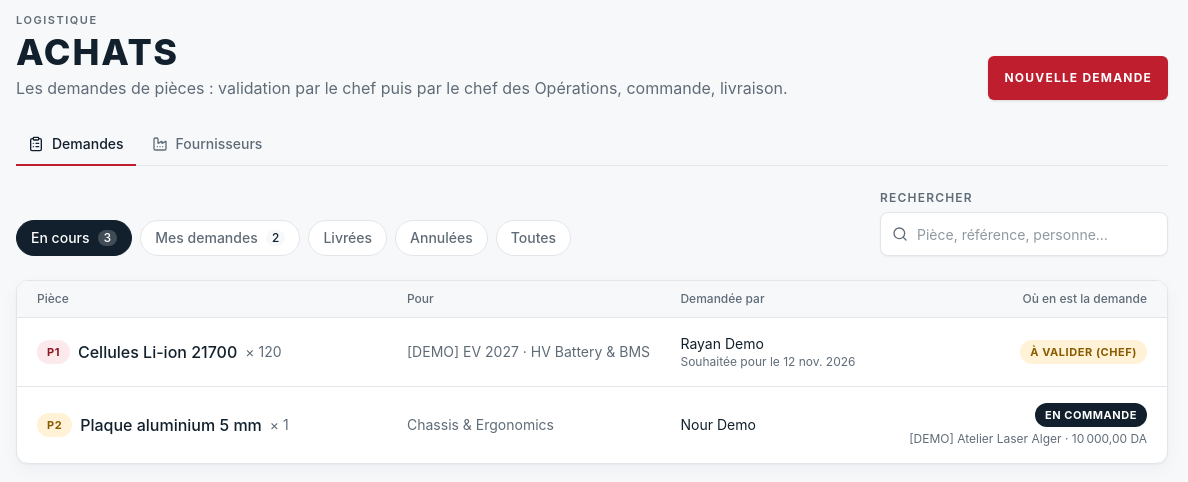
PurchasesPage › searches without accents, in the part and the people
Check: the link "Cellules Li-ion 21700" is shown, box [78,340,237,364]
Type "nour" into the search field labelled "Rechercher" at (1024, 234), box [880,212,1168,256]
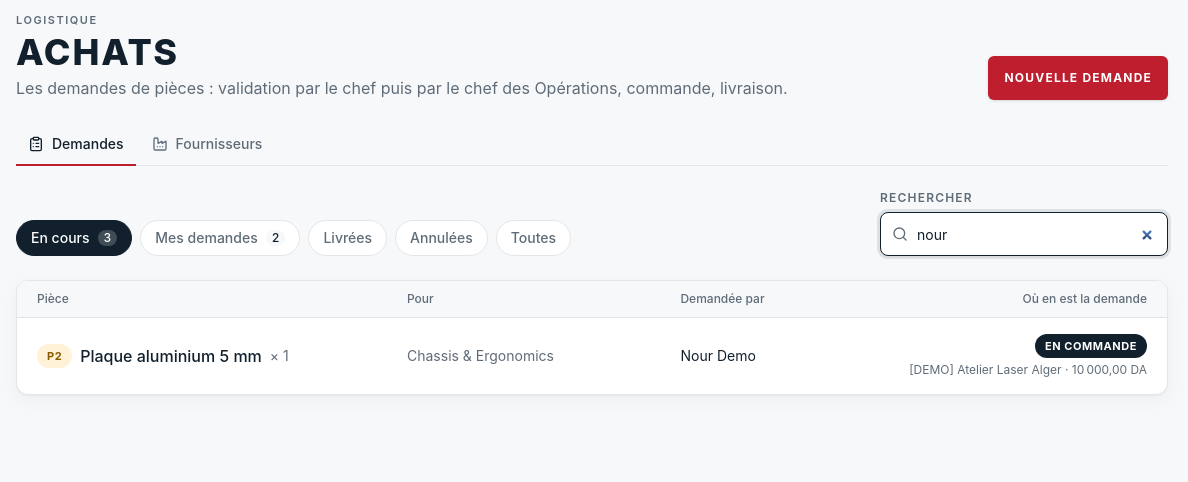
Check: the link "Plaque aluminium 5 mm" is shown, box [80,344,262,368]
Check: the link "Cellules Li-ion 21700" is gone
Replace the text in the search field labelled "Rechercher" with "zzz" at (1024, 234), box [880,212,1168,256]
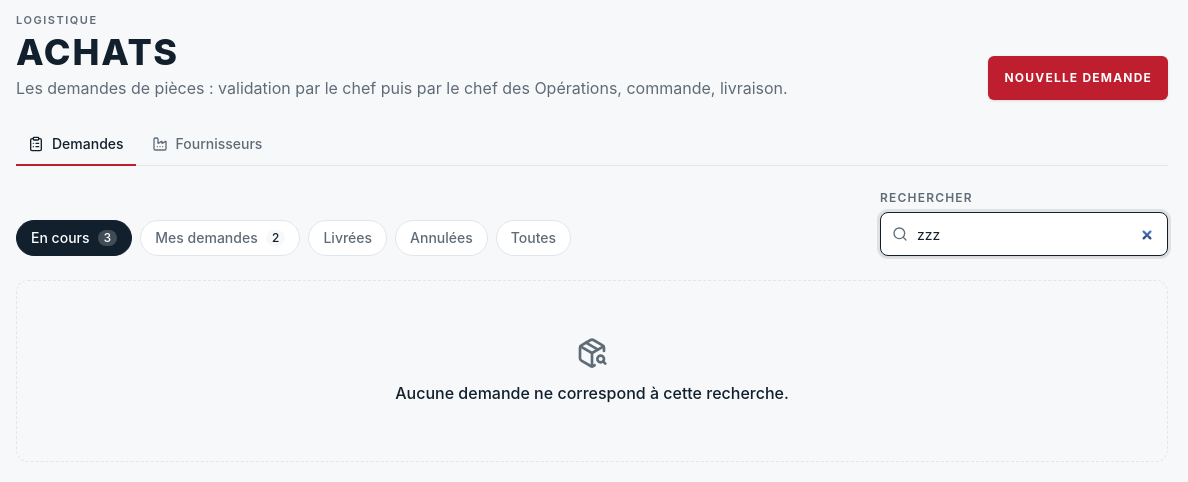
Check: the text "Aucune demande ne correspond à cette recherche." is shown, box [395,381,789,405]
